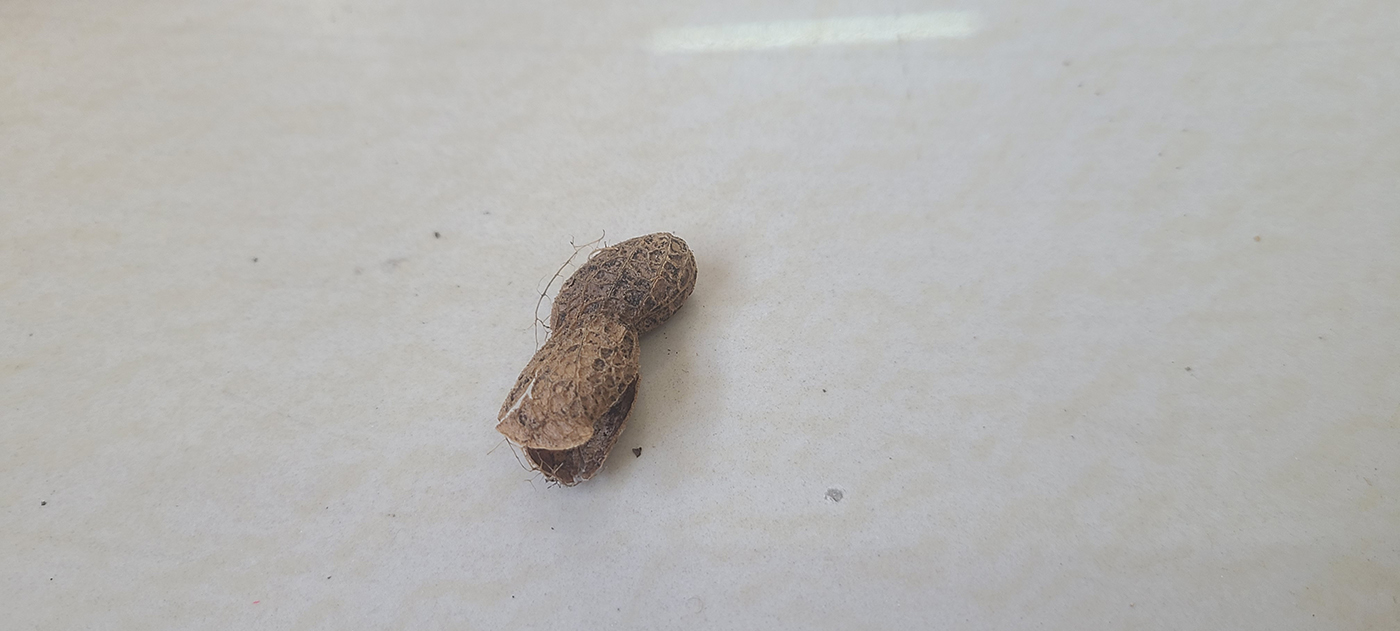l: (497, 230, 701, 485)
